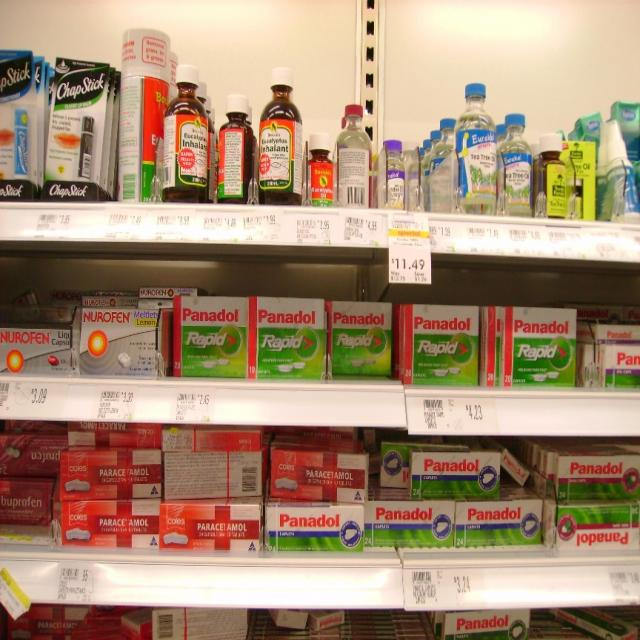q31: (410, 306, 488, 379), (177, 302, 255, 374), (257, 300, 322, 382), (503, 314, 578, 380), (548, 450, 640, 499), (330, 302, 393, 373), (458, 502, 550, 547), (411, 456, 501, 500), (265, 506, 368, 543), (561, 516, 640, 563), (371, 504, 453, 547), (273, 506, 309, 524)
